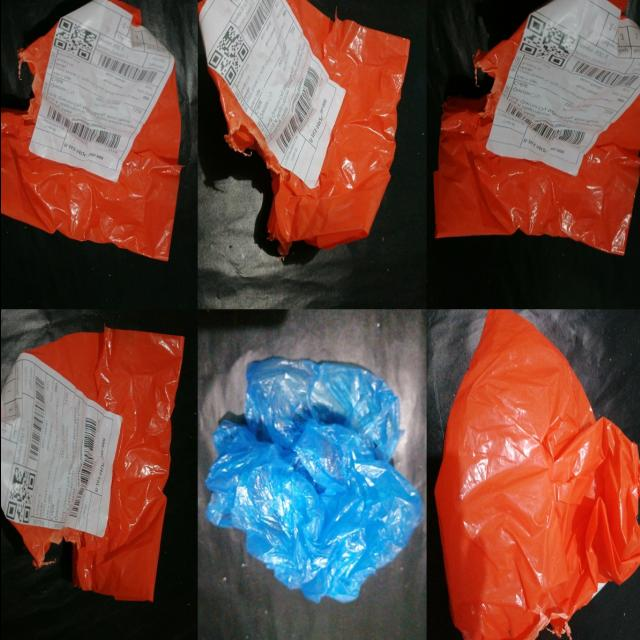plastik: (435, 310, 640, 640), (199, 0, 409, 254), (205, 357, 422, 602), (434, 0, 640, 255), (0, 328, 182, 600), (0, 0, 180, 260)
